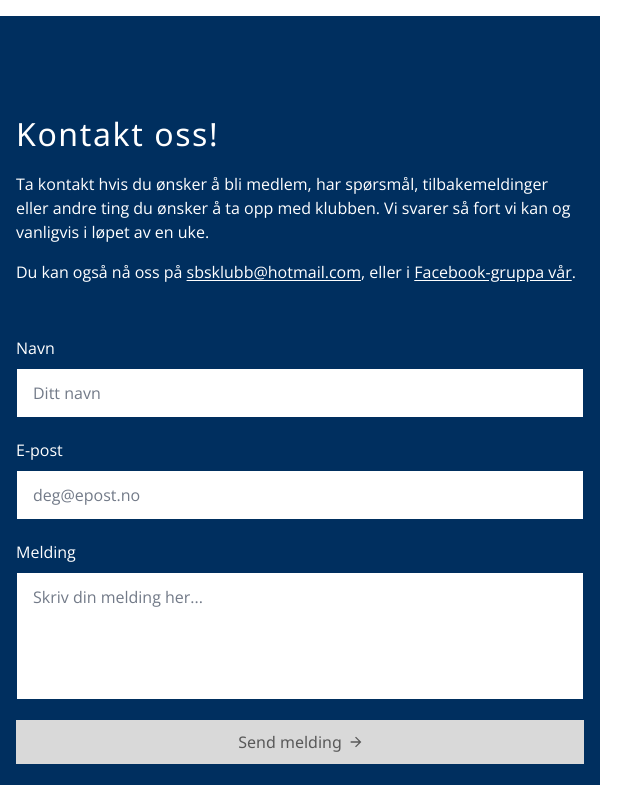
Test: ContactSection › disables Send until every field is valid
Expected: the button "Send melding" is disabled, [16, 720, 584, 764]
Type "Ola Nordmann" into the field with placeholder "Ditt navn".
click(300, 393); type("Ola Nordmann")  # box [16, 368, 584, 418]
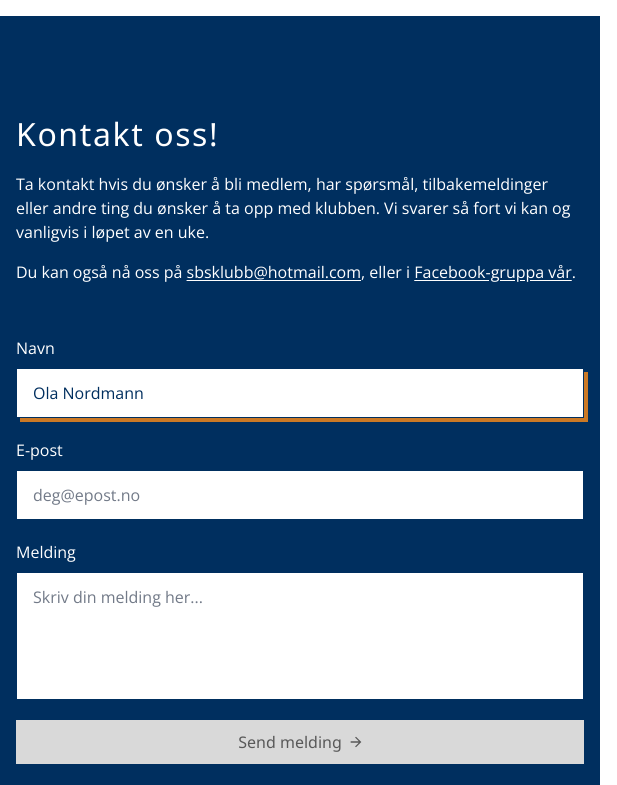
Type "ola@epost.no" into the field with placeholder "deg@epost.no".
click(300, 495); type("ola@epost.no")  # box [16, 470, 584, 520]
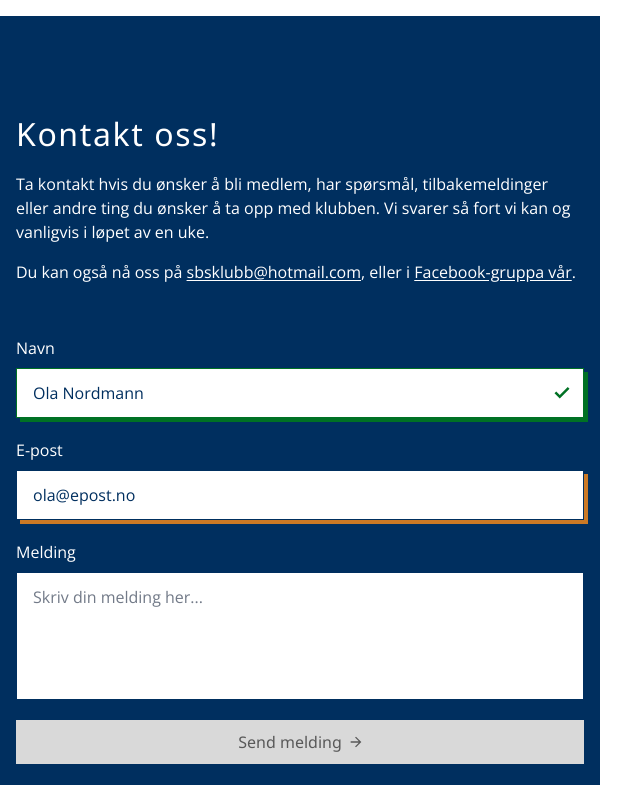
Type "Hei, jeg har et spørsmål." into the text box with placeholder "Skriv din melding her...".
click(300, 636); type("Hei, jeg har et spørsmål.")  # box [16, 572, 584, 700]
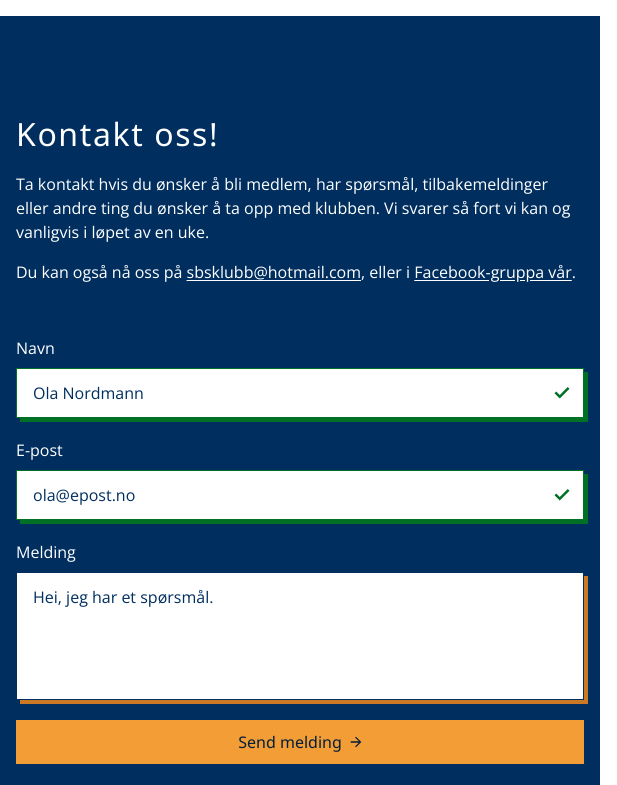
Expected: the button "Send melding" is enabled, [16, 720, 584, 764]
